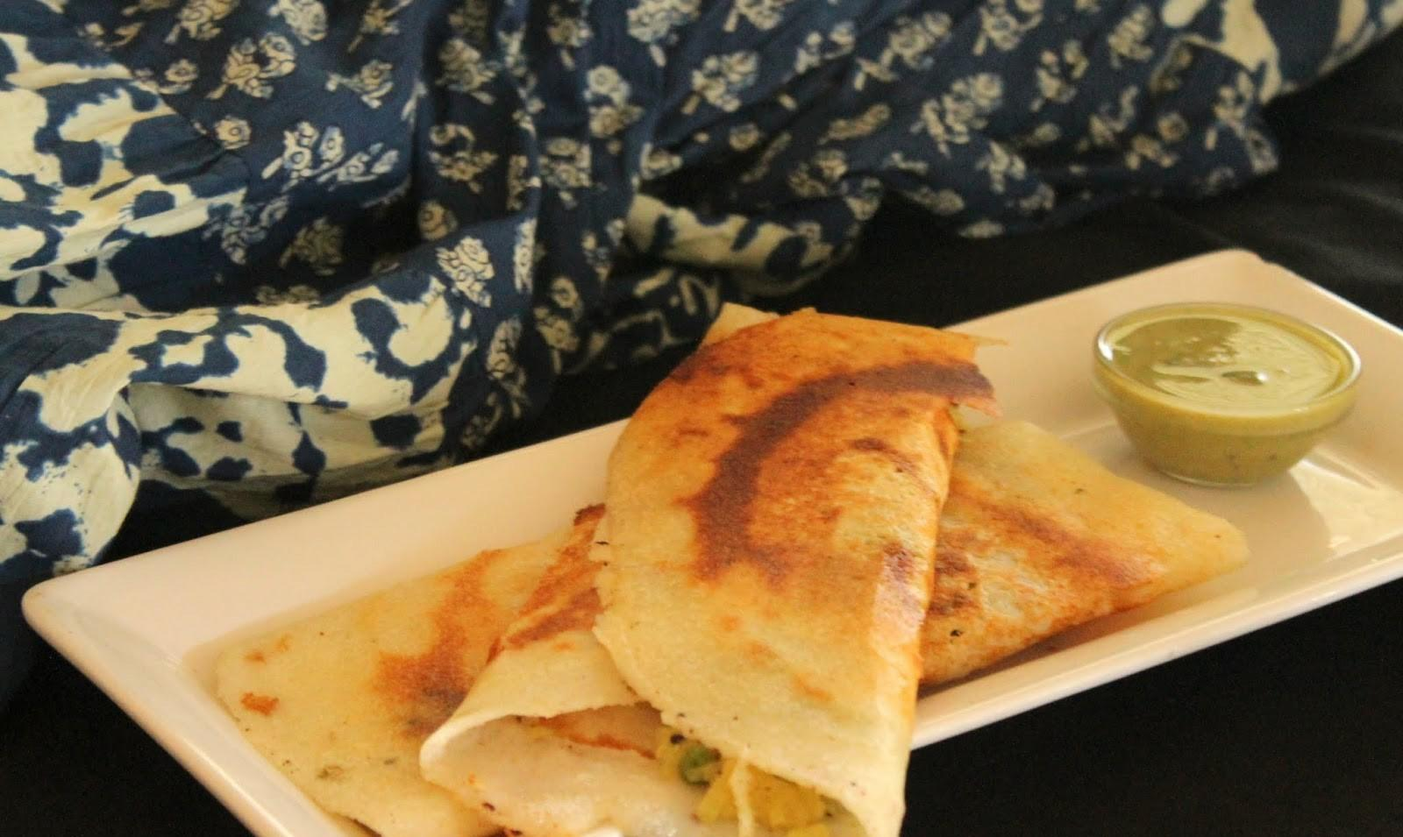Dosa: (219, 419, 1255, 837), (420, 307, 991, 837)
